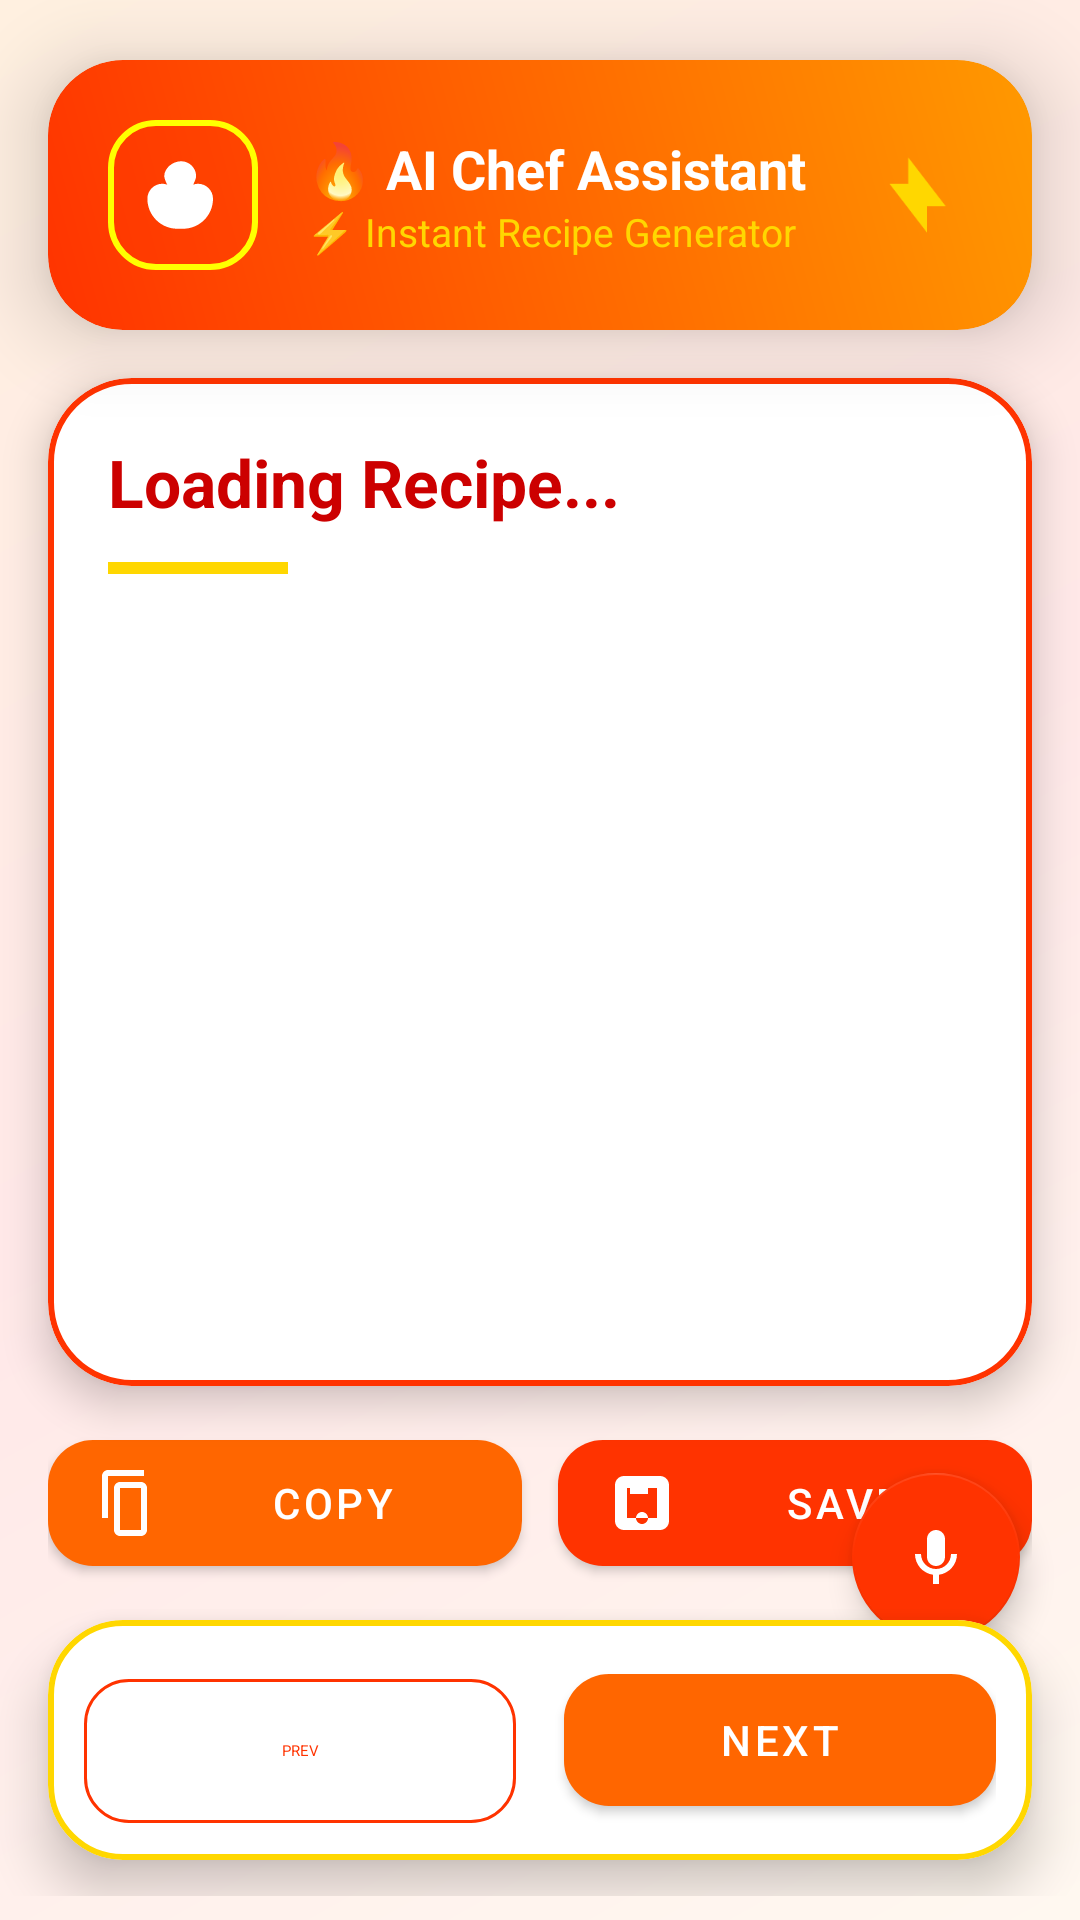

Point at icon controls on the screen. Image size 1080w x 1920h, points as (x,y).
lightning: (917,195)
mic: (936,1557)
